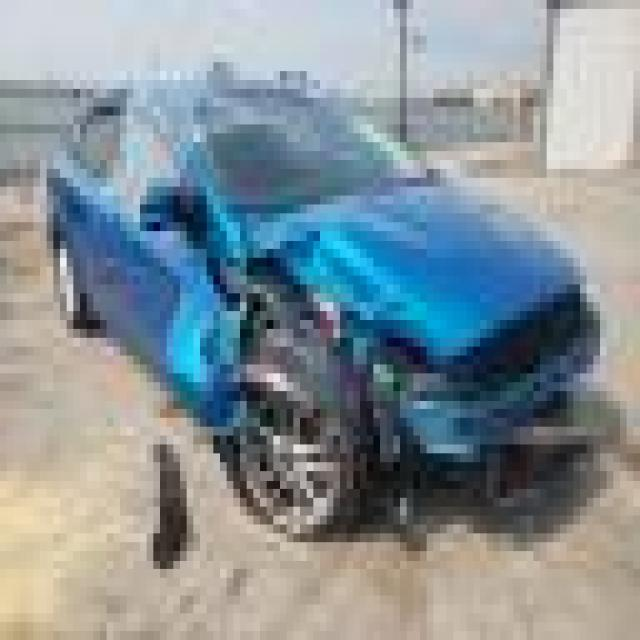moderate: (177, 223, 513, 637)
